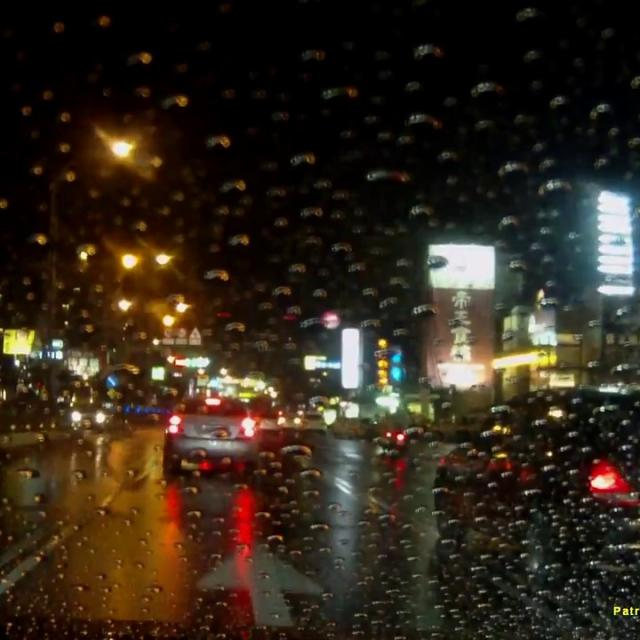Car: (431, 383, 639, 592), (161, 393, 259, 476), (290, 408, 327, 435), (255, 408, 283, 434)
